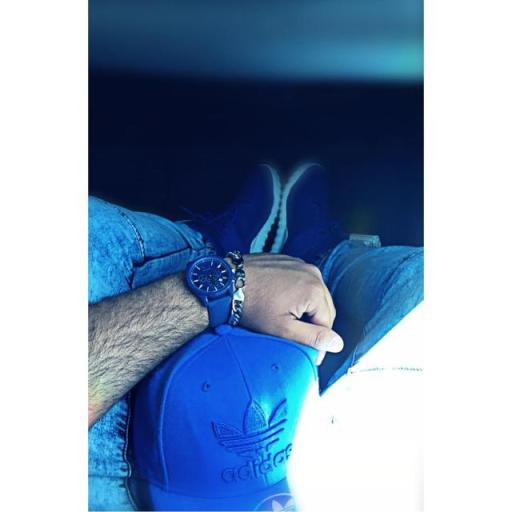Adidas: (209, 394, 295, 488)
